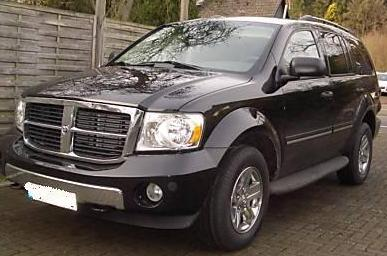front_view: (14, 93, 216, 232)
headlight: (132, 102, 209, 170)
side_glass: (279, 22, 366, 76)
